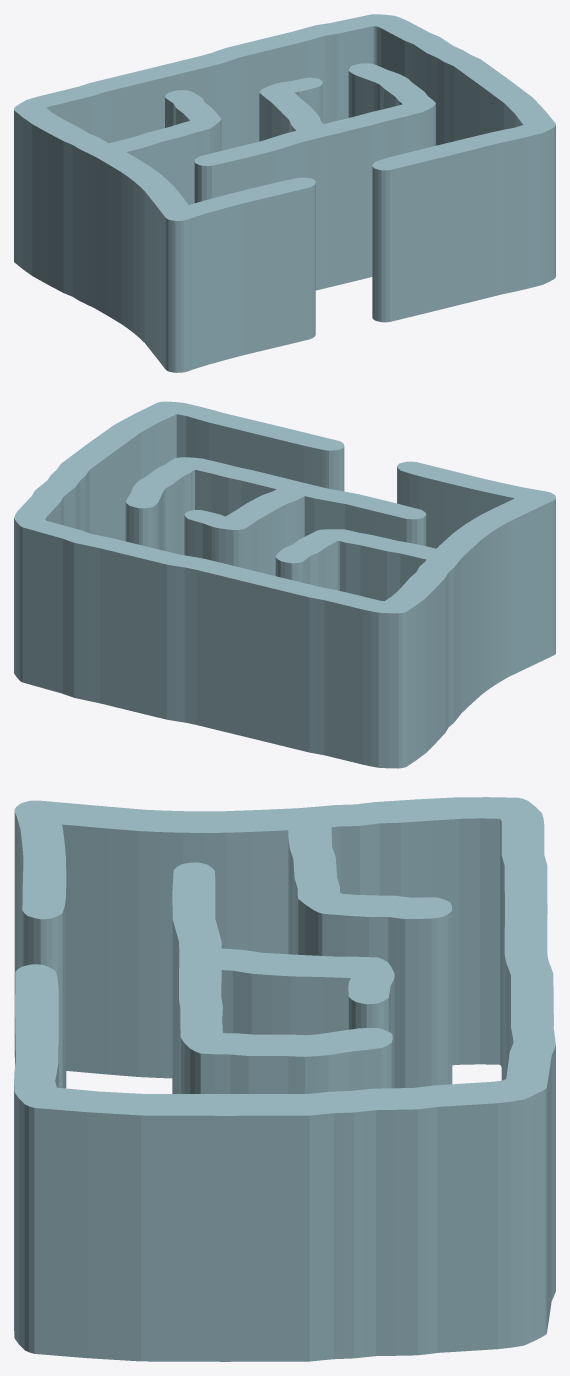
Rendered from maze1.glb.
3 views of the same model, one above another, from view 1: azimuth 30°, elevation 25°; view 2: azimuth 150°, elevation 25°; view 3: azimuth 270°, elevation 25° (orthographic). The views are drawn at different scales.
Parts seen in each view (by area): view 1: Mesh_Mesh_head_geo.001_lambert2SG.001; view 2: Mesh_Mesh_head_geo.001_lambert2SG.001; view 3: Mesh_Mesh_head_geo.001_lambert2SG.001.
Part boxes in pixels (box(x1,y1,x2,y2)): Mesh_Mesh_head_geo.001_lambert2SG.001: box(14, 14, 555, 372); Mesh_Mesh_head_geo.001_lambert2SG.001: box(14, 401, 555, 768); Mesh_Mesh_head_geo.001_lambert2SG.001: box(14, 797, 555, 1361).
Bounding box in the file's own units: 13.89 × 5 × 9.99.
